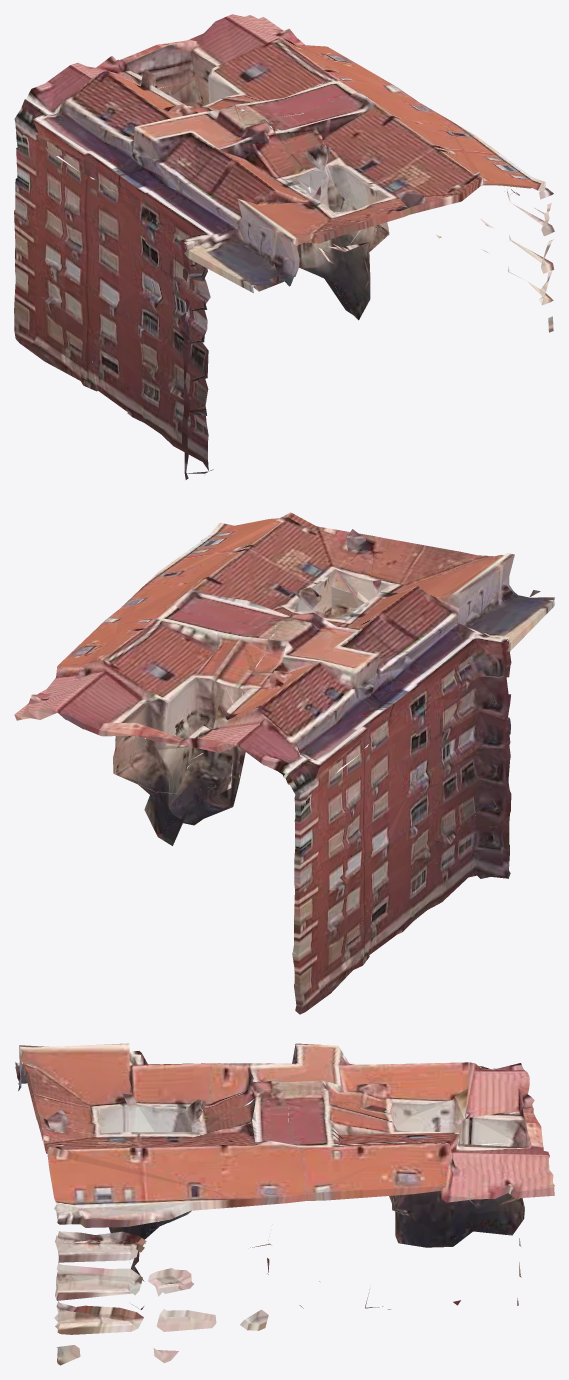
3 views of the same model, one above another, from view 1: azimuth 30°, elevation 25°; view 2: azimuth 150°, elevation 25°; view 3: azimuth 270°, elevation 25° (orthographic). The views are drawn at different scales.
Parts seen in each view (by area): view 1: Mesh_0; view 2: Mesh_0; view 3: Mesh_0.
Boxes of the visible parts, left/top/right/bottom form: Mesh_0: left=14, top=14, right=554, bottom=479; Mesh_0: left=14, top=512, right=554, bottom=1014; Mesh_0: left=15, top=1043, right=554, bottom=1365.
Size of the model in its own units: 30.23 by 23.82 by 41.37.
2 materials, 2 textured.
